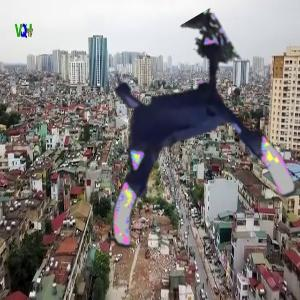drone: (74, 46, 280, 252)
